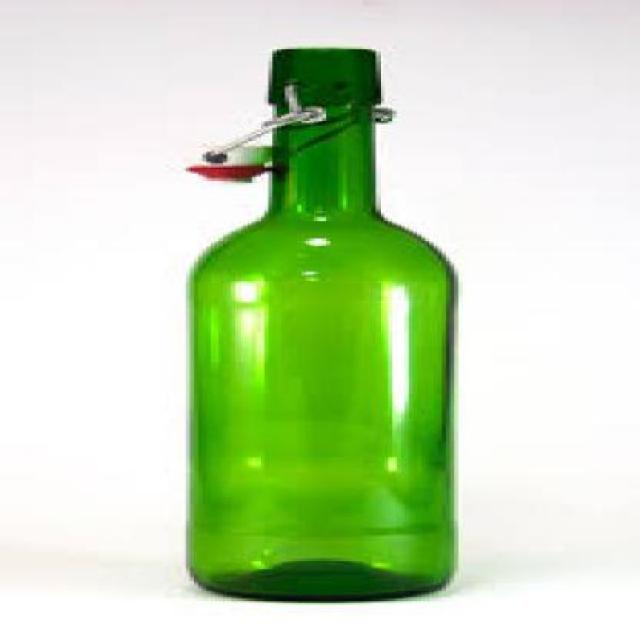GLASS: (185, 47, 450, 601)
